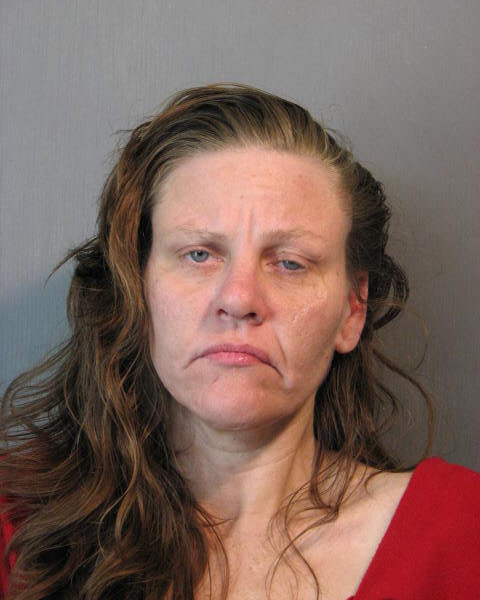face: (130, 85, 372, 430)
